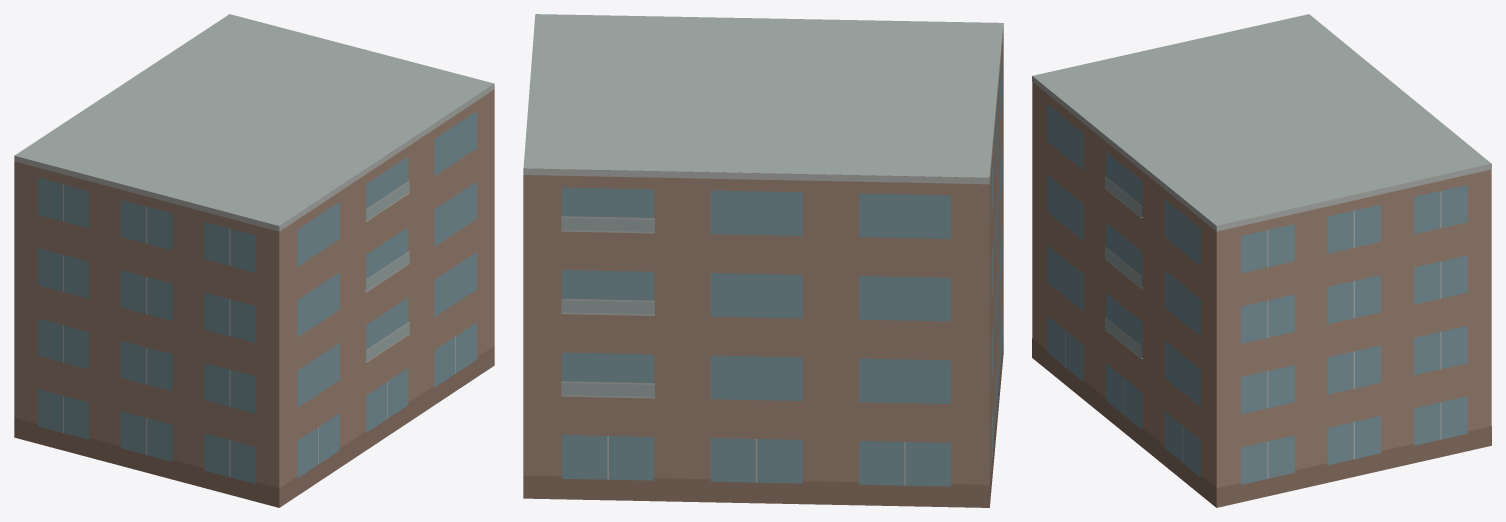
Rendered from survey-upis-32904794.glb.
The picture shows the model from 3 angles, left to right: view 1: azimuth 30°, elevation 25°; view 2: azimuth 150°, elevation 25°; view 3: azimuth 270°, elevation 25°; orthographic projection. The views are drawn at different scales.
Visible parts, largest first — view 1: survey-upis-32904794.tmp; view 2: survey-upis-32904794.tmp; view 3: survey-upis-32904794.tmp.
Boxes of the visible parts, left/top/right/bottom form: survey-upis-32904794.tmp: left=14, top=14, right=494, bottom=507; survey-upis-32904794.tmp: left=523, top=14, right=1003, bottom=507; survey-upis-32904794.tmp: left=1032, top=14, right=1491, bottom=507.
Size of the model in its own units: 19.68 by 12.2 by 18.04.
